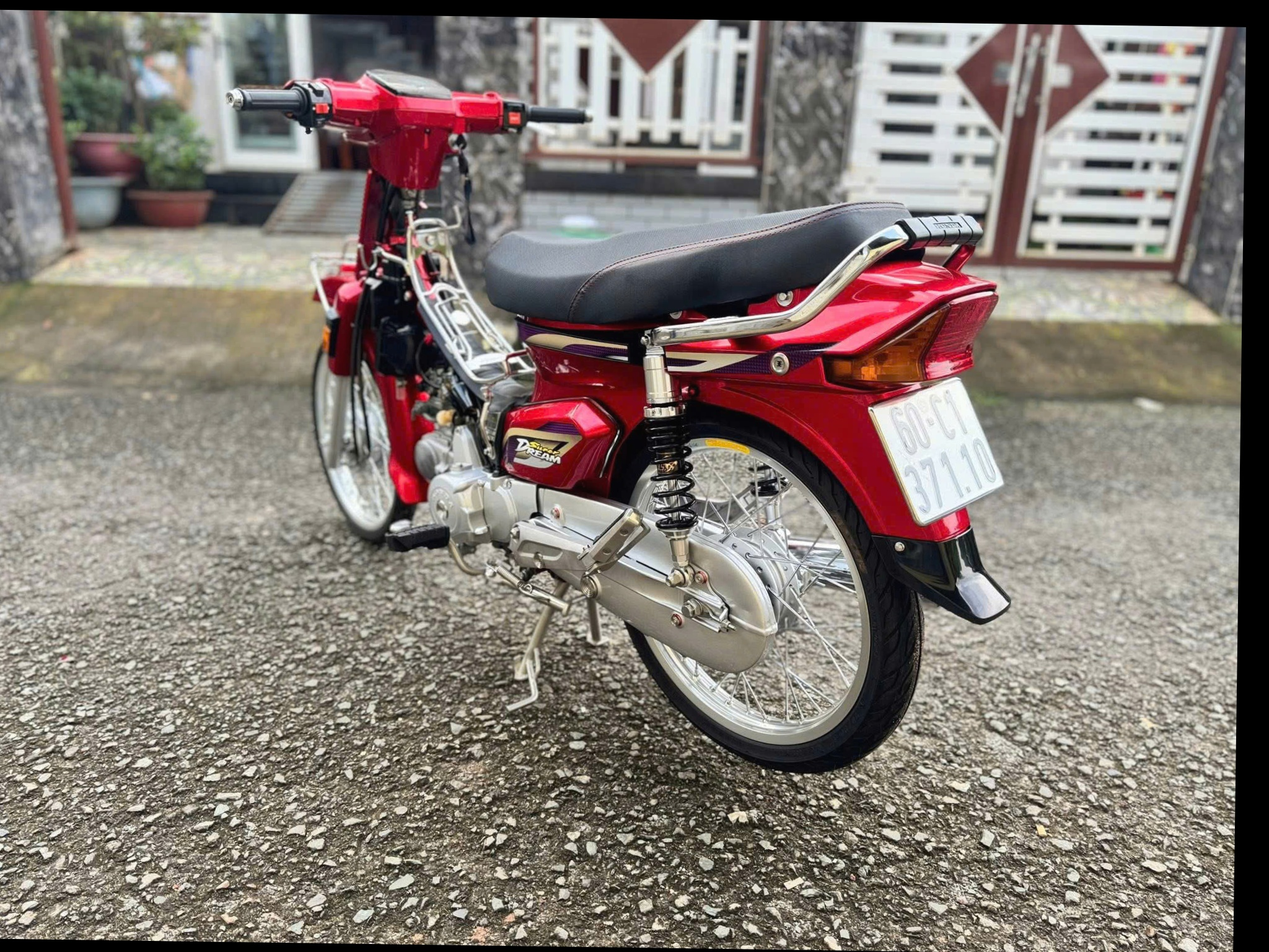Bien-so: (870, 379, 1012, 534)
